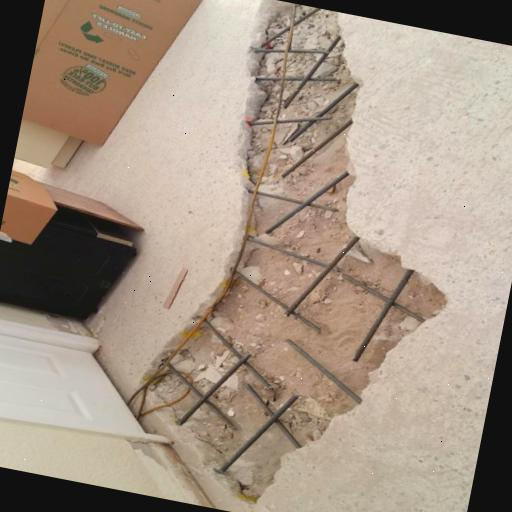spalling: (133, 0, 460, 512)
